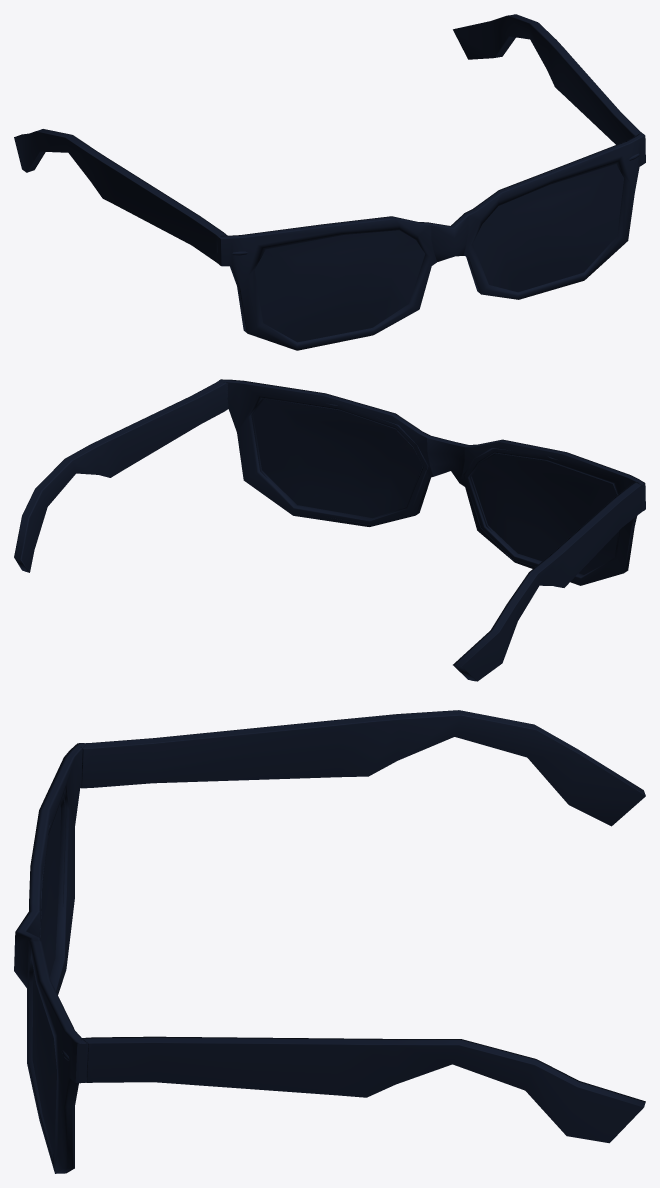
The model's file is accessory-sunglasses.optimized.glb.
3 views of the same model, one above another, from view 1: azimuth 30°, elevation 25°; view 2: azimuth 150°, elevation 25°; view 3: azimuth 270°, elevation 25° (orthographic). The views are drawn at different scales.
Visible parts, largest first — view 1: accessory-sunglasses; view 2: accessory-sunglasses; view 3: accessory-sunglasses.
Part boxes in pixels (left/top/right/bottom): accessory-sunglasses: left=14, top=14, right=645, bottom=350; accessory-sunglasses: left=14, top=379, right=645, bottom=681; accessory-sunglasses: left=14, top=710, right=645, bottom=1173.
Size of the model in its own units: 0.1434 by 0.0382 by 0.1124.
